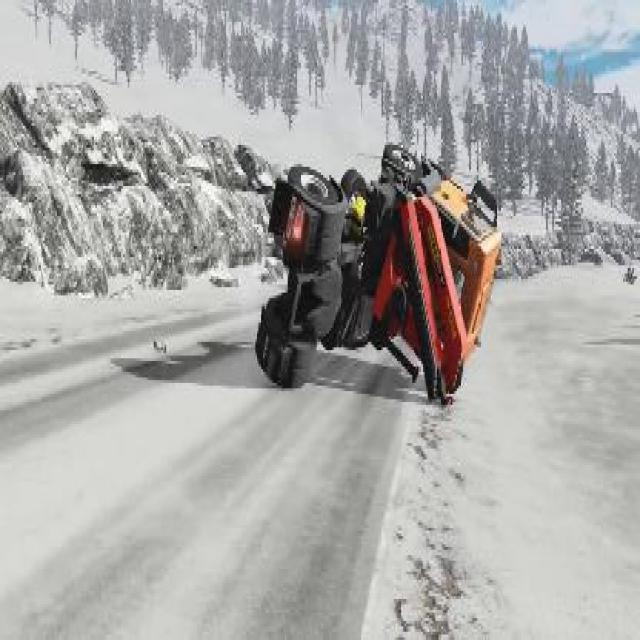accident: (250, 129, 501, 413)
